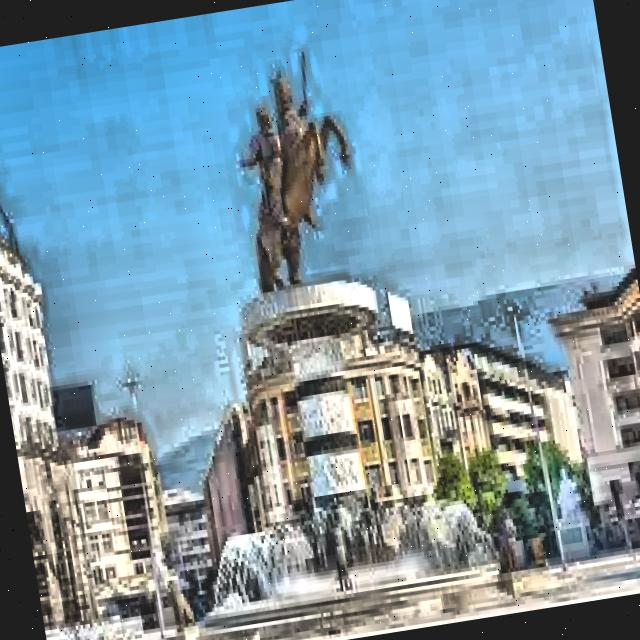alexander the great monument: (196, 41, 435, 617)
